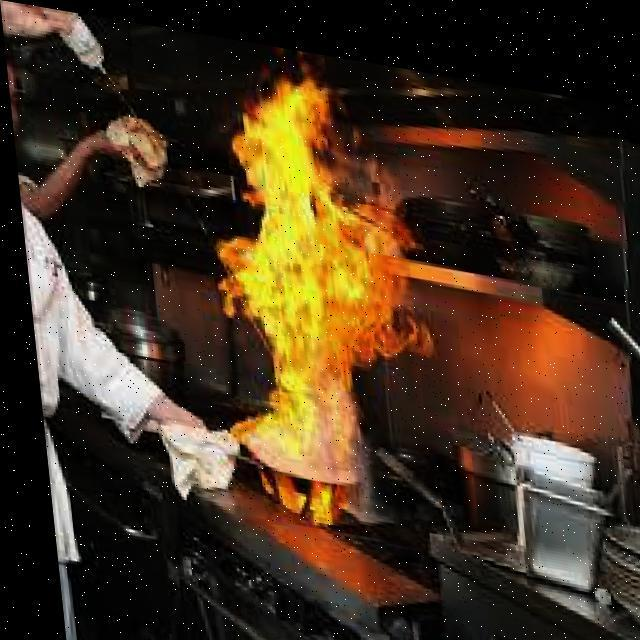Fire: (194, 62, 433, 536)
